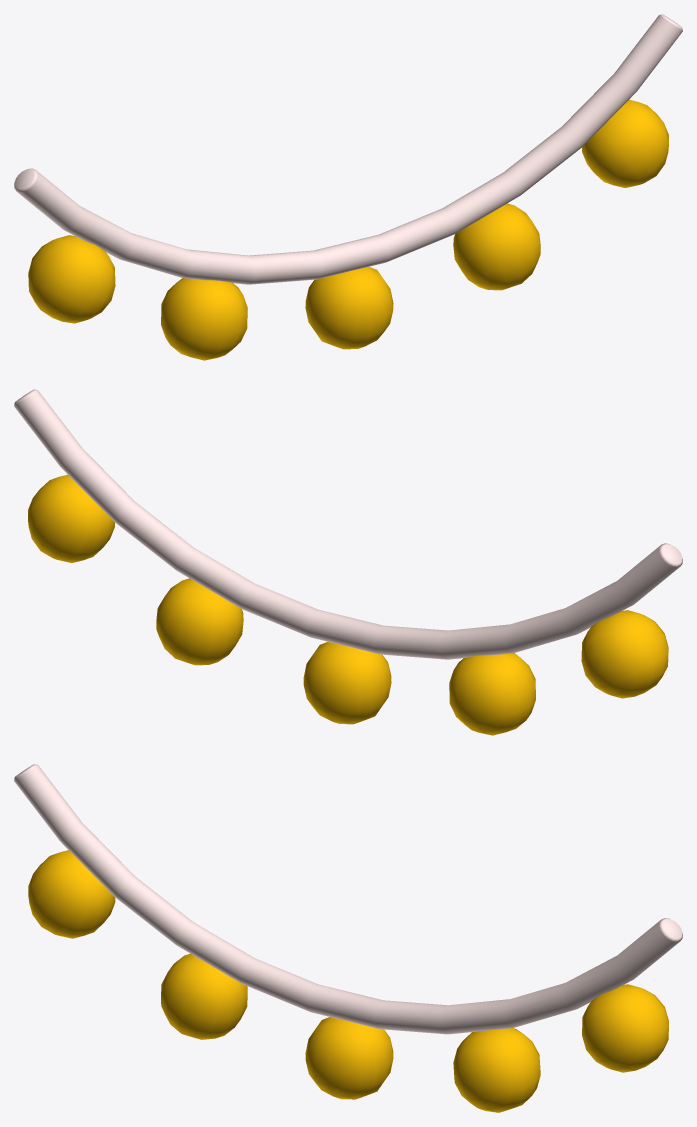
File: Town_20_Llanterns_1.glb
3 views of the same model, one above another, from view 1: azimuth 30°, elevation 25°; view 2: azimuth 150°, elevation 25°; view 3: azimuth 330°, elevation 25° (orthographic).
Visible parts, largest first — view 1: Town_20_Llanterns_1; view 2: Town_20_Llanterns_1; view 3: Town_20_Llanterns_1.
Part boxes in pixels (<box>): Town_20_Llanterns_1: <box>14,14,682,360</box>; Town_20_Llanterns_1: <box>14,389,682,735</box>; Town_20_Llanterns_1: <box>14,764,682,1112</box>.
Bounding box in the file's own units: 1.39 × 0.5051 × 0.1585.
Materials: 1 (1 with a texture image).
